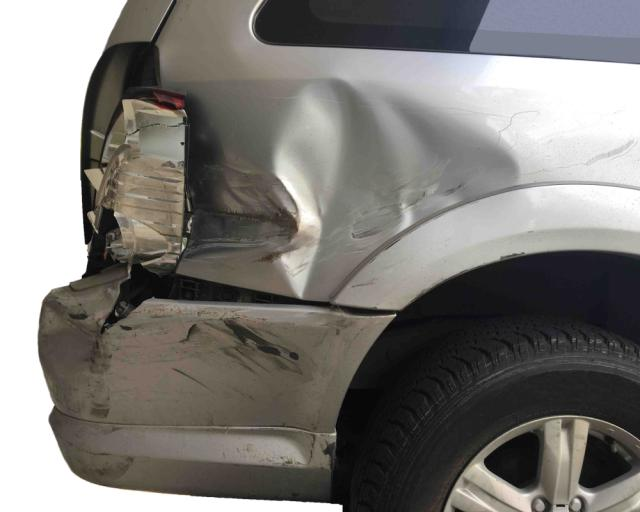crack: (101, 275, 153, 336)
dent: (183, 78, 517, 300), (38, 293, 108, 374)
lamp broken: (87, 89, 189, 271)
scratch: (121, 303, 314, 399), (53, 379, 136, 480)
